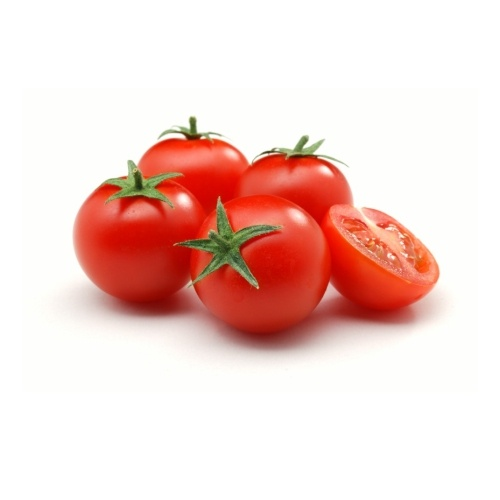tomato: (74, 116, 442, 334)
